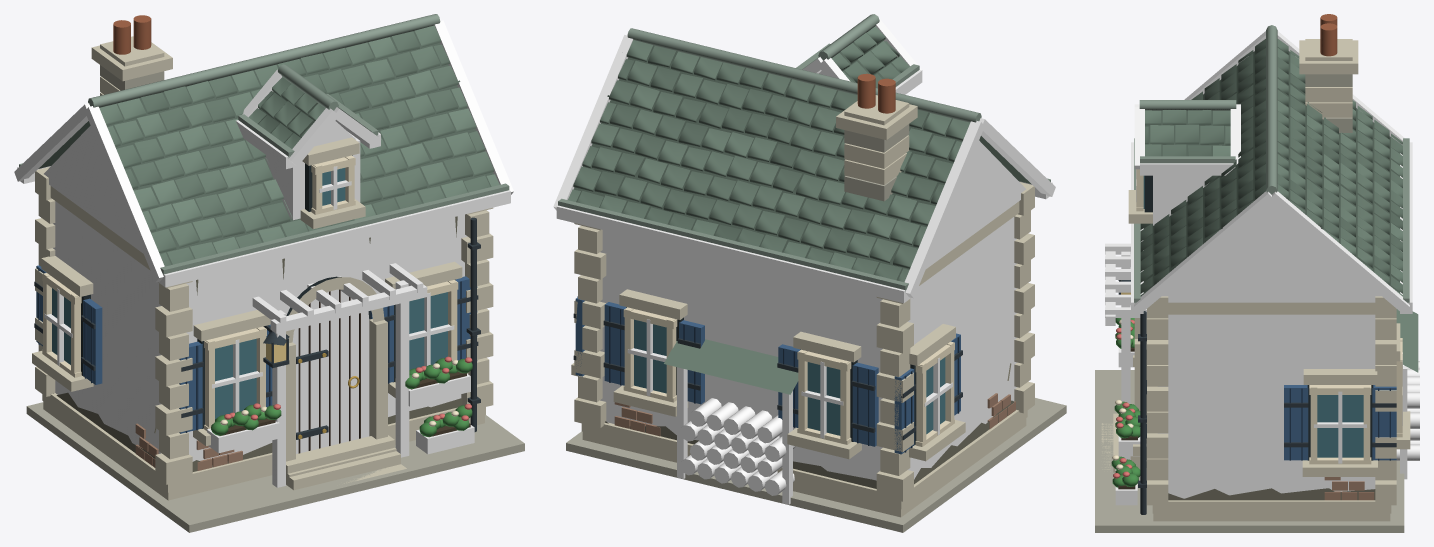
Rendered from garden_house_sage.glb.
3 views of the same model, side by side, from view 1: azimuth 30°, elevation 25°; view 2: azimuth 150°, elevation 25°; view 3: azimuth 270°, elevation 25° (orthographic). The views are drawn at different scales.
Visible parts, largest first — view 1: SourceMesh_00056, SourceMesh_00005, SourceMesh_00000, SourceMesh_00106, SourceMesh_00047, SourceMesh_00048, SourceMesh_00050, SourceMesh_00006, SourceMesh_00049, SourceMesh_00099, SourceMesh_00052, SourceMesh_00310 (+52 smaller); view 2: SourceMesh_00056, SourceMesh_00005, SourceMesh_00044, SourceMesh_00000, SourceMesh_00045, SourceMesh_00050, SourceMesh_00006, SourceMesh_00374, SourceMesh_00046, SourceMesh_00001, SourceMesh_00051, SourceMesh_00099 (+49 smaller); view 3: SourceMesh_00005, SourceMesh_00056, SourceMesh_00053, SourceMesh_00000, SourceMesh_00099, SourceMesh_00044, SourceMesh_00006, SourceMesh_00007, SourceMesh_00214, SourceMesh_00054, SourceMesh_00055, SourceMesh_00047 (+56 smaller).
Part boxes in pixels (<box>): SourceMesh_00056: <box>99,25,499,266</box>; SourceMesh_00005: <box>53,201,467,461</box>; SourceMesh_00000: <box>26,402,524,532</box>; SourceMesh_00106: <box>292,289,369,453</box>; SourceMesh_00047: <box>107,31,493,264</box>; SourceMesh_00048: <box>158,190,510,287</box>; SourceMesh_00050: <box>44,126,143,253</box>; SourceMesh_00006: <box>42,393,485,492</box>; SourceMesh_00049: <box>160,183,509,274</box>; SourceMesh_00099: <box>249,77,325,148</box>; SourceMesh_00052: <box>85,106,164,282</box>; SourceMesh_00310: <box>395,280,409,457</box>; SourceMesh_00056: <box>568,40,969,282</box>; SourceMesh_00005: <box>600,217,1016,480</box>; SourceMesh_00044: <box>573,45,962,280</box>; SourceMesh_00000: <box>566,398,1066,532</box>; SourceMesh_00045: <box>556,205,910,303</box>; SourceMesh_00050: <box>926,140,1025,268</box>; SourceMesh_00006: <box>581,410,1027,509</box>; SourceMesh_00374: <box>664,339,798,394</box>; SourceMesh_00046: <box>558,198,908,291</box>; SourceMesh_00001: <box>582,418,1026,517</box>; SourceMesh_00051: <box>904,121,983,298</box>; SourceMesh_00099: <box>832,26,909,87</box>; SourceMesh_00005: <box>1158,314,1375,498</box>; SourceMesh_00056: <box>1140,39,1402,296</box>; SourceMesh_00053: <box>1162,203,1381,302</box>; SourceMesh_00000: <box>1095,370,1404,532</box>; SourceMesh_00099: <box>1145,110,1230,156</box>; SourceMesh_00044: <box>1277,47,1399,292</box>; SourceMesh_00006: <box>1152,500,1391,513</box>; SourceMesh_00007: <box>1168,302,1375,314</box>; SourceMesh_00214: <box>1317,395,1363,457</box>; SourceMesh_00054: <box>1269,191,1409,313</box>; SourceMesh_00055: <box>1134,191,1274,313</box>; SourceMesh_00047: <box>1143,47,1265,292</box>.
Bounding box in the file's own units: 5.29 × 5.78 × 4.41.
